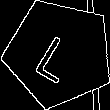L_NE: (32, 24, 86, 83)
